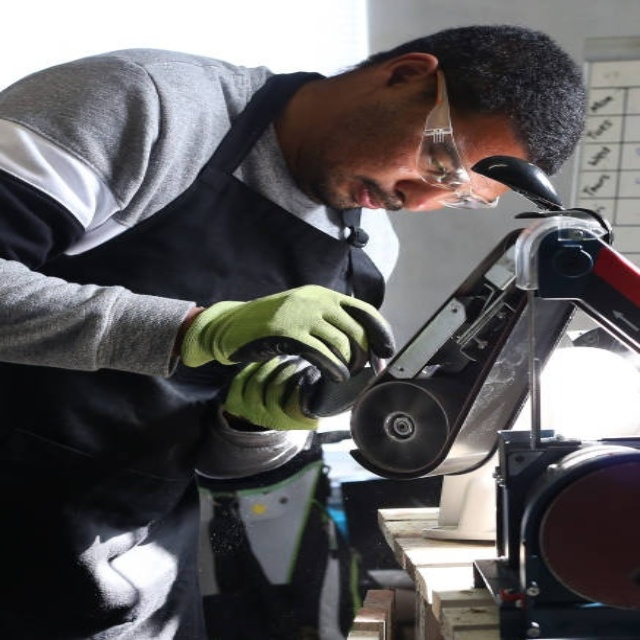Gafas: (418, 68, 495, 210)
Guantes: (182, 283, 390, 376), (221, 357, 323, 431)
Sin_mascara: (321, 164, 401, 214)
